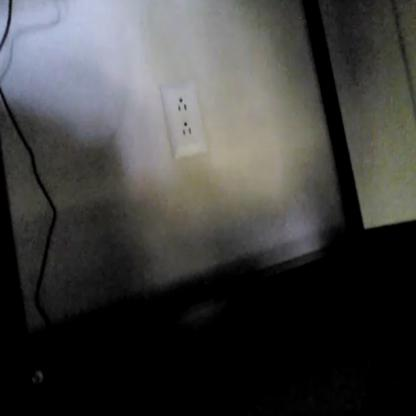OUTLET: (161, 81, 204, 160)
